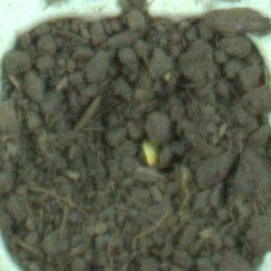chilli seed: (136, 135, 166, 170)
